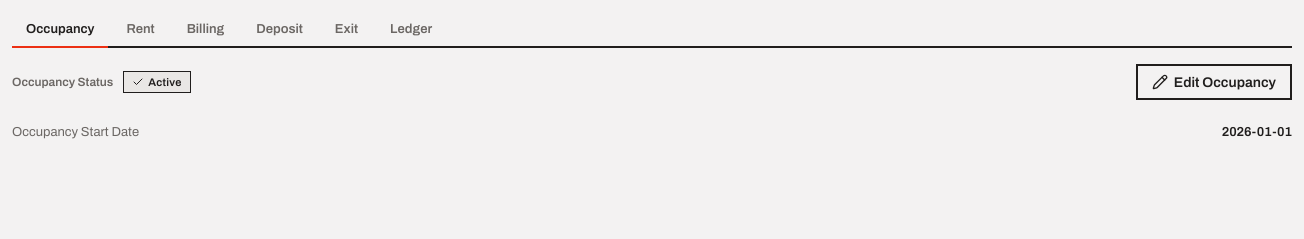
Test case: UnitOccupancyTabs — P6.3-J: Bills/Ledger tabs are opt-in, for the historical occupancy page › shows the Ledger empty state when an empty array is supplied
Click the tab "Ledger" at {"x": 411, "y": 30}, box top-left (376, 12), bottom-right (446, 48)
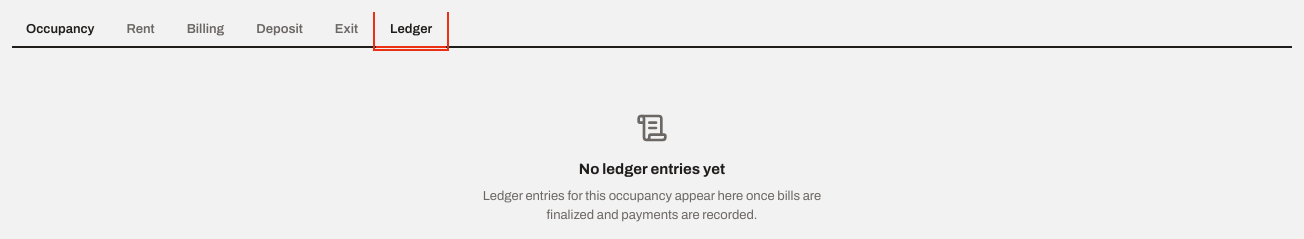
Now the text "No ledger entries yet" is shown, box top-left (579, 158), bottom-right (725, 180)
